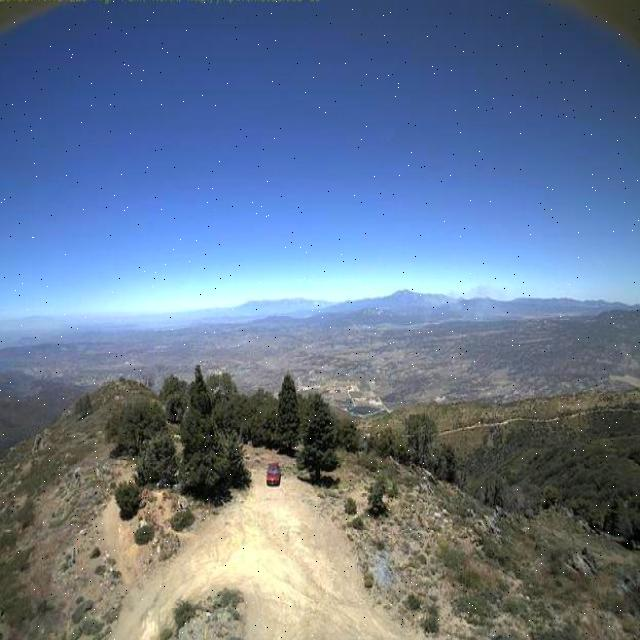smoke: (406, 280, 506, 324)
